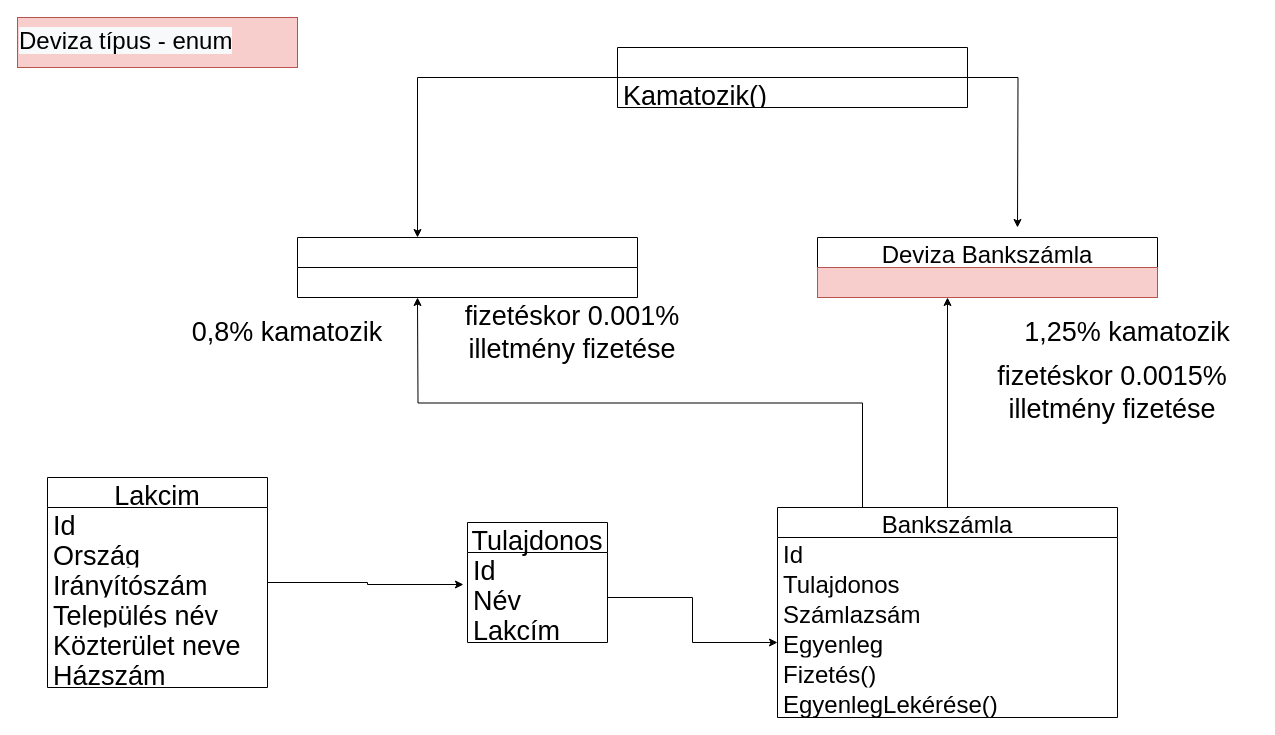
This 1275x735 diagram has some shape labels left out. Here are the shapes that lost their labels. From the top down, the box of each, then its label:
(616, 46, 968, 108): Betét
(296, 236, 638, 298): Forint Bankszámla
(816, 266, 1158, 298): Deviza típus
